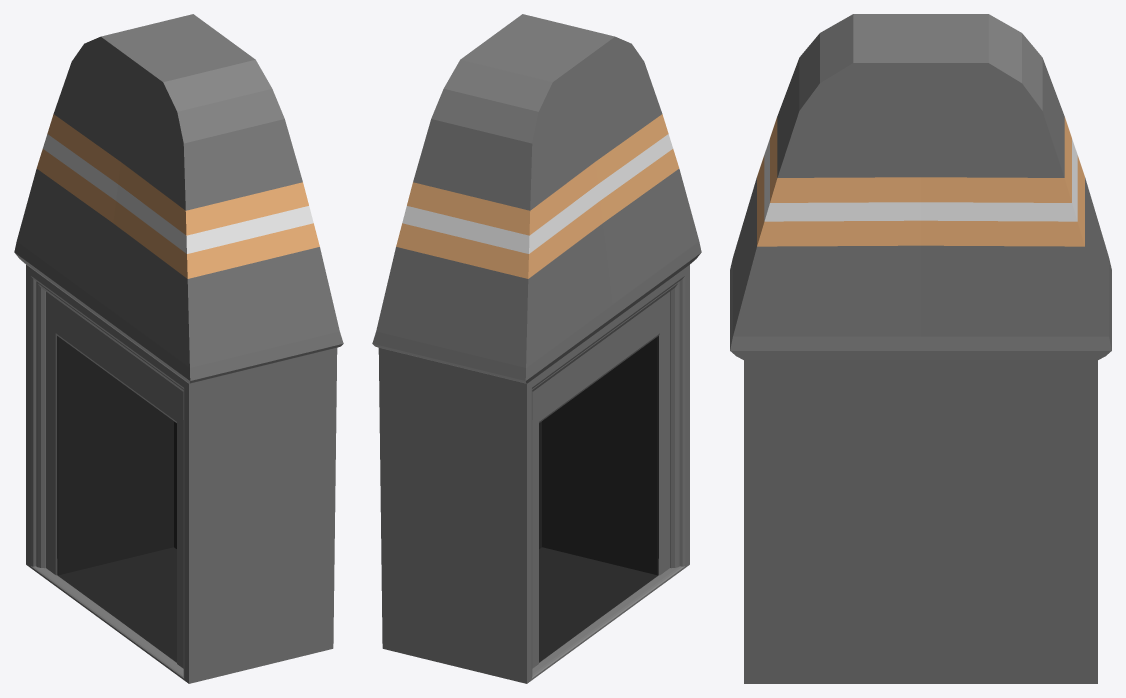
The model's file is Wood Burning Stove_2.fbx.
The picture shows the model from 3 angles, left to right: view 1: azimuth 30°, elevation 25°; view 2: azimuth 150°, elevation 25°; view 3: azimuth 270°, elevation 25°; orthographic projection. The views are drawn at different scales.
Visible parts, largest first — view 1: Wood Burning Stove_2; view 2: Wood Burning Stove_2; view 3: Wood Burning Stove_2.
Part boxes in pixels (box(x1,y1,x2,y2)): Wood Burning Stove_2: box(14, 14, 343, 683); Wood Burning Stove_2: box(372, 14, 701, 683); Wood Burning Stove_2: box(730, 14, 1111, 683).
Bounding box in the file's own units: 0.7177 × 2.5 × 1.43.
